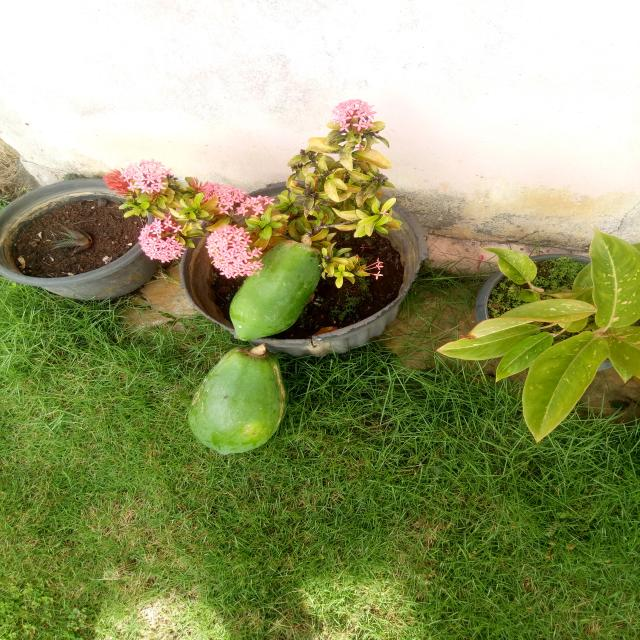Pepaya unrippen: (190, 346, 288, 461), (218, 240, 322, 345)
